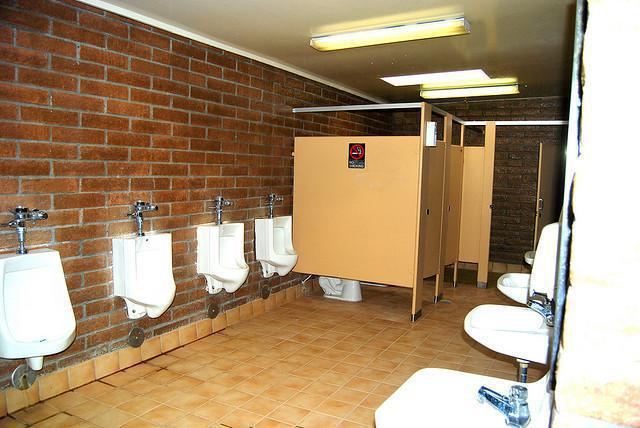Lavamanos: (374, 364, 554, 427), (459, 294, 554, 369), (496, 218, 561, 297)
